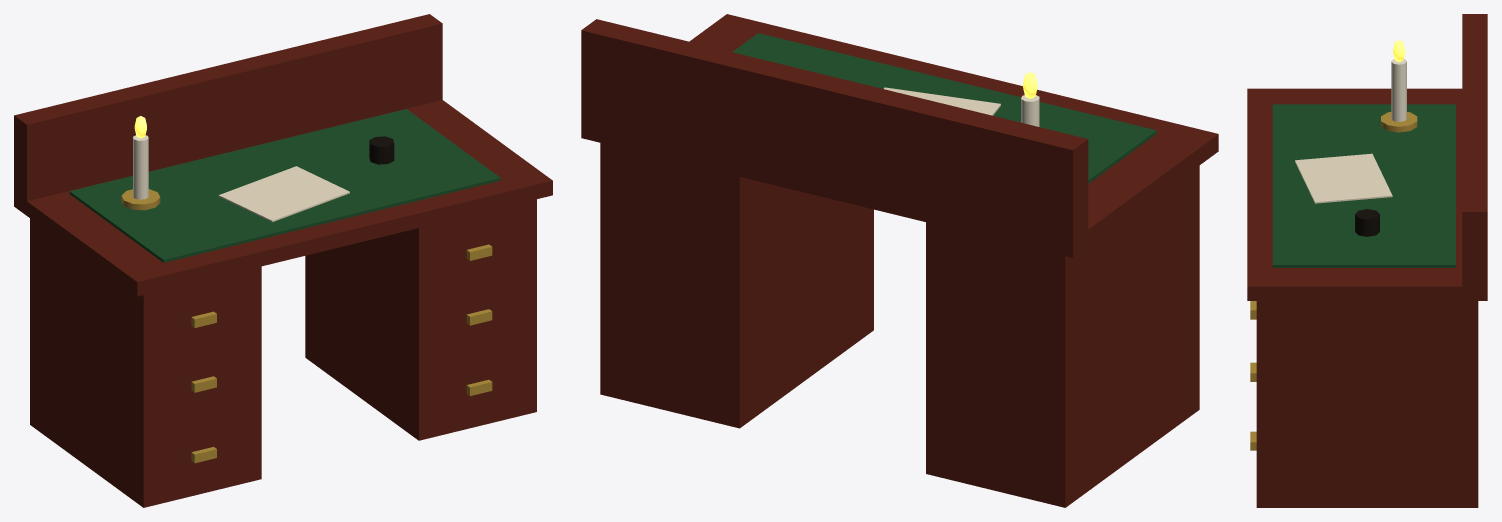
File: ge_writing_desk.glb
3 renders of one model, left to right at view 1: azimuth 30°, elevation 25°; view 2: azimuth 150°, elevation 25°; view 3: azimuth 270°, elevation 25°, orthographic. The views are drawn at different scales.
Parts seen in each view (by area): view 1: ge_writing_desk; view 2: ge_writing_desk; view 3: ge_writing_desk.
Boxes of the visible parts, x1,y1,x2,y2 form: ge_writing_desk: (14,14,552,507); ge_writing_desk: (581,14,1218,507); ge_writing_desk: (1247,14,1487,507).
Size of the model in its own units: 1.47 by 1.09 by 0.7568.
